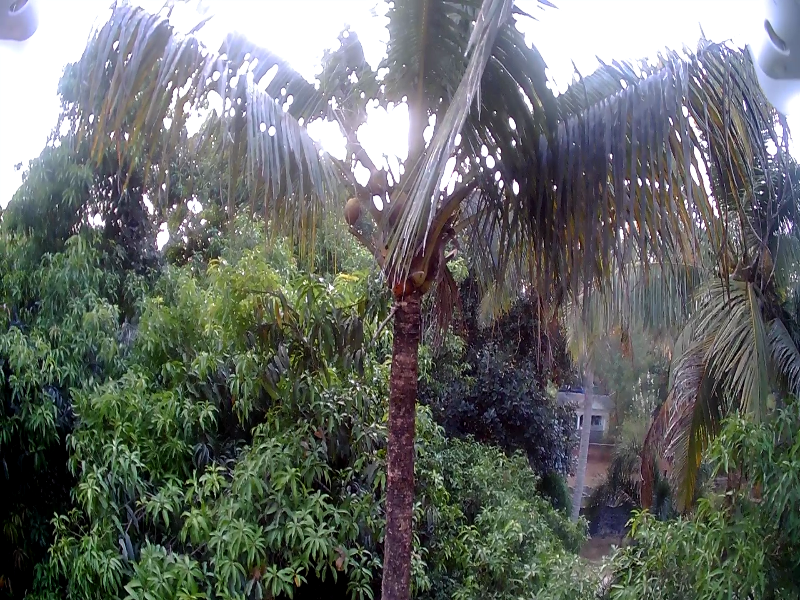coconut: (341, 195, 362, 227), (370, 171, 388, 195)
